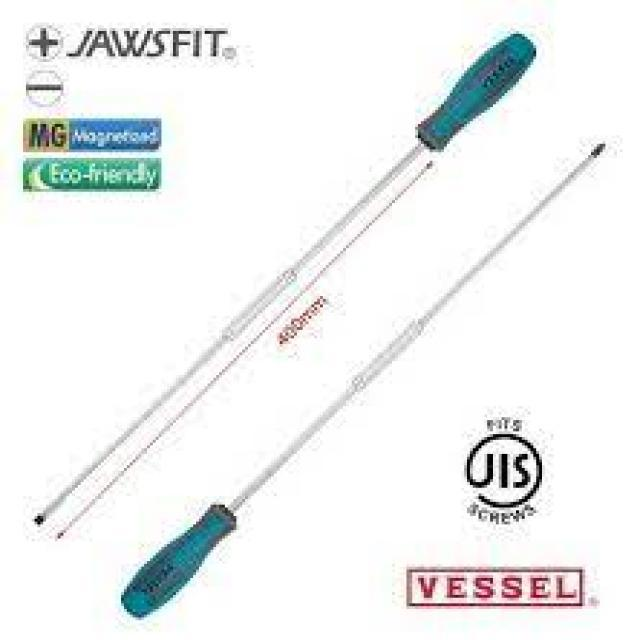screwdriver: (33, 25, 541, 530), (112, 138, 608, 623)
